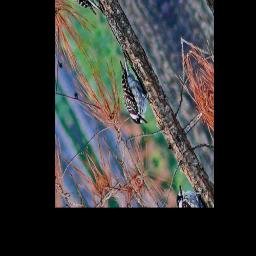Woodpecker: (100, 40, 165, 140)
